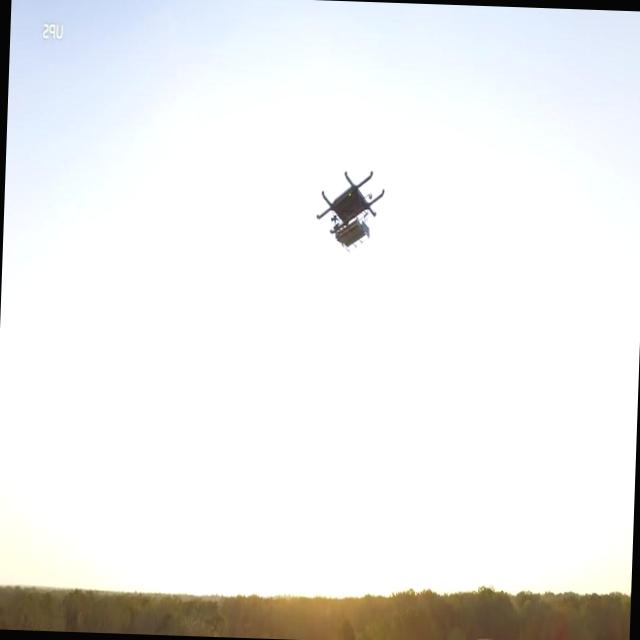drone: (314, 162, 386, 254)
